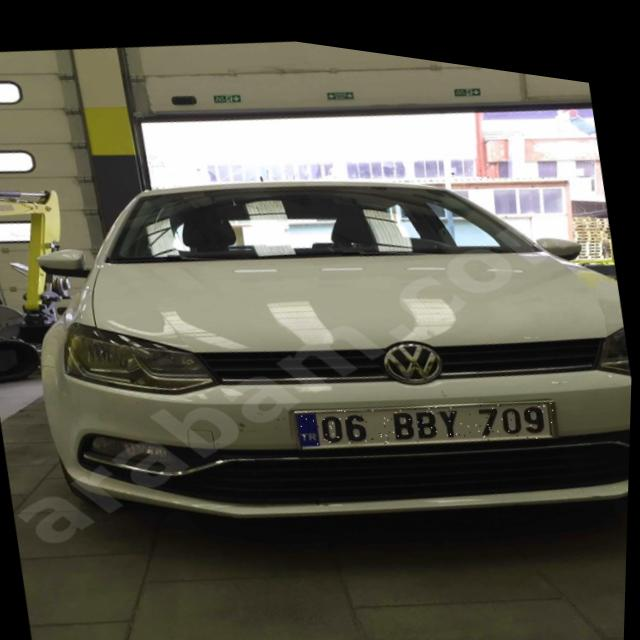license_plate: (296, 357, 560, 466)
